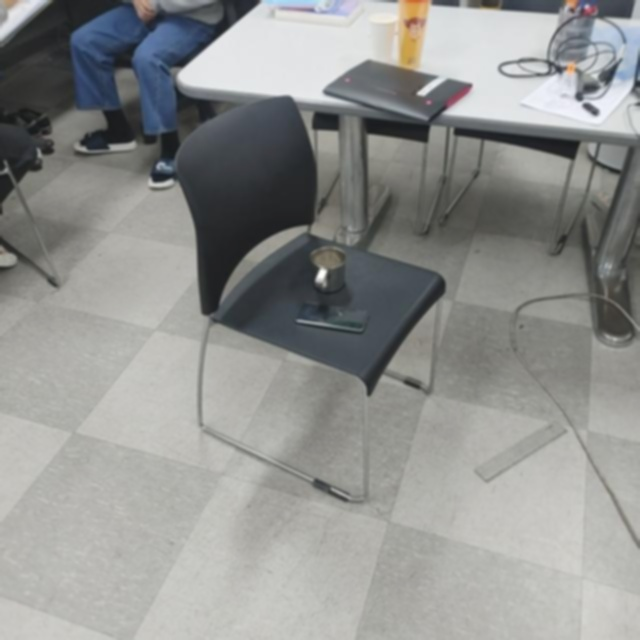cup: (307, 245, 350, 295)
phone: (292, 299, 370, 338)
